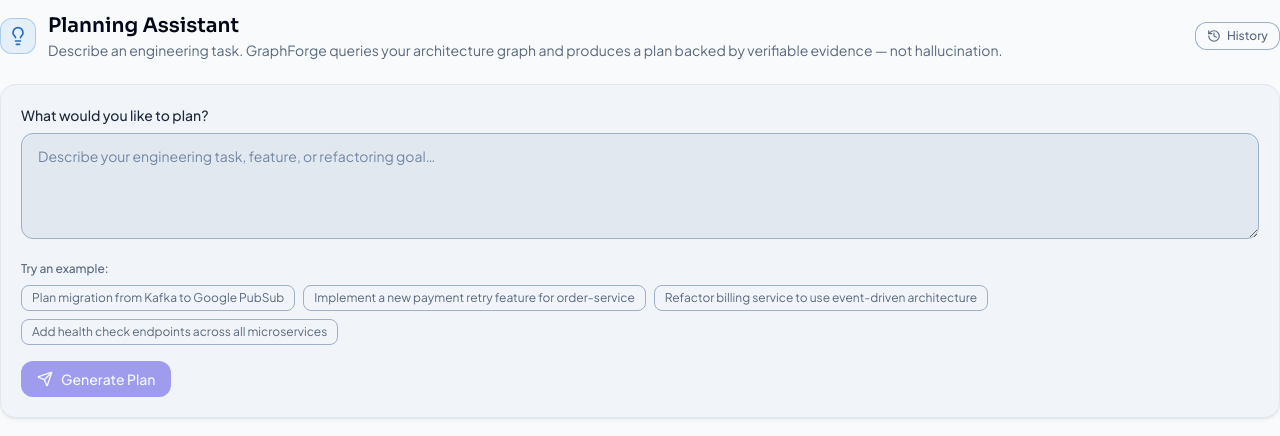
Scenario: PlanningPage › enables submit button when input has text
The width and height of the screenshot is (1280, 436).
Type "Plan a new feature" into the text box labelled "What would you like to plan?" at [640, 186], box [21,133,1259,239]
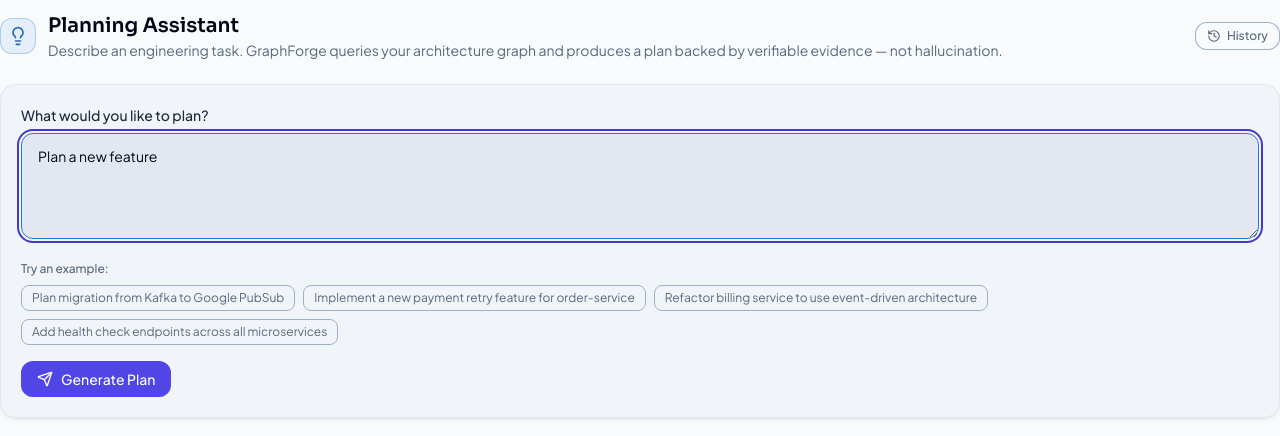
Expected: the button "Generate Plan" is enabled, [21,361,171,397]
